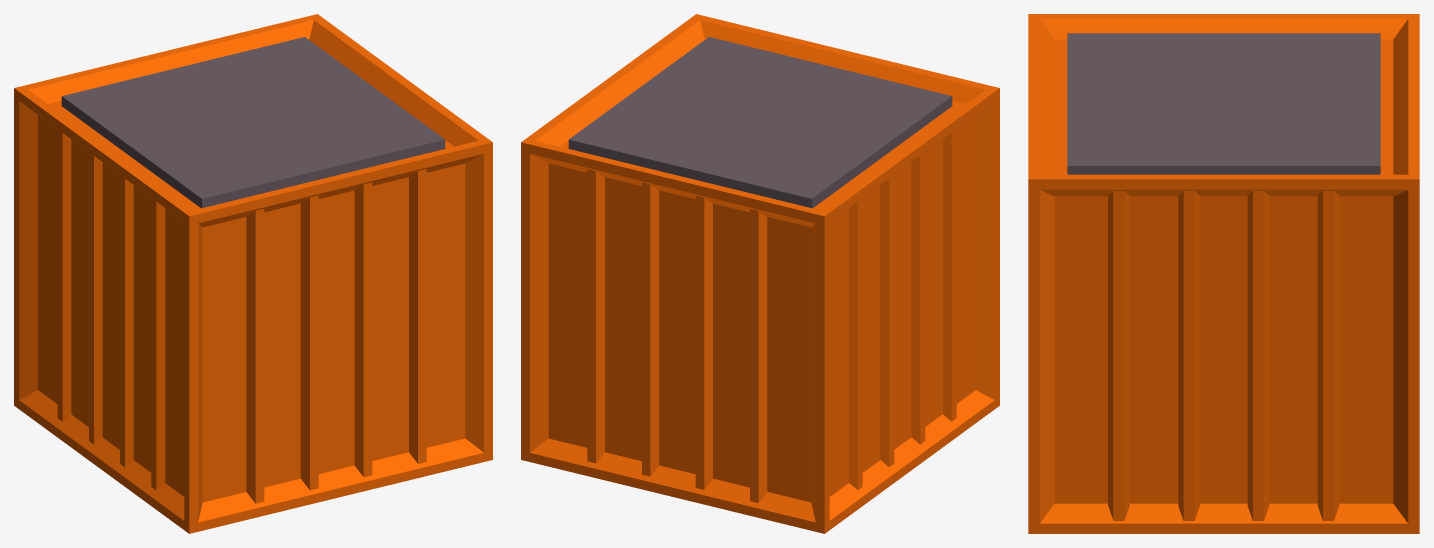
3 renders of one model, left to right at view 1: azimuth 30°, elevation 25°; view 2: azimuth 150°, elevation 25°; view 3: azimuth 270°, elevation 25°, orthographic. The views are drawn at different scales.
Parts seen in each view (by area): view 1: Куб.036; view 2: Куб.036; view 3: Куб.036.
Boxes of the visible parts, x1=… form: Куб.036: x1=14, y1=14, x2=492, y2=533; Куб.036: x1=521, y1=14, x2=999, y2=533; Куб.036: x1=1028, y1=14, x2=1419, y2=533.
Size of the model in its own units: 99 by 99 by 99.
